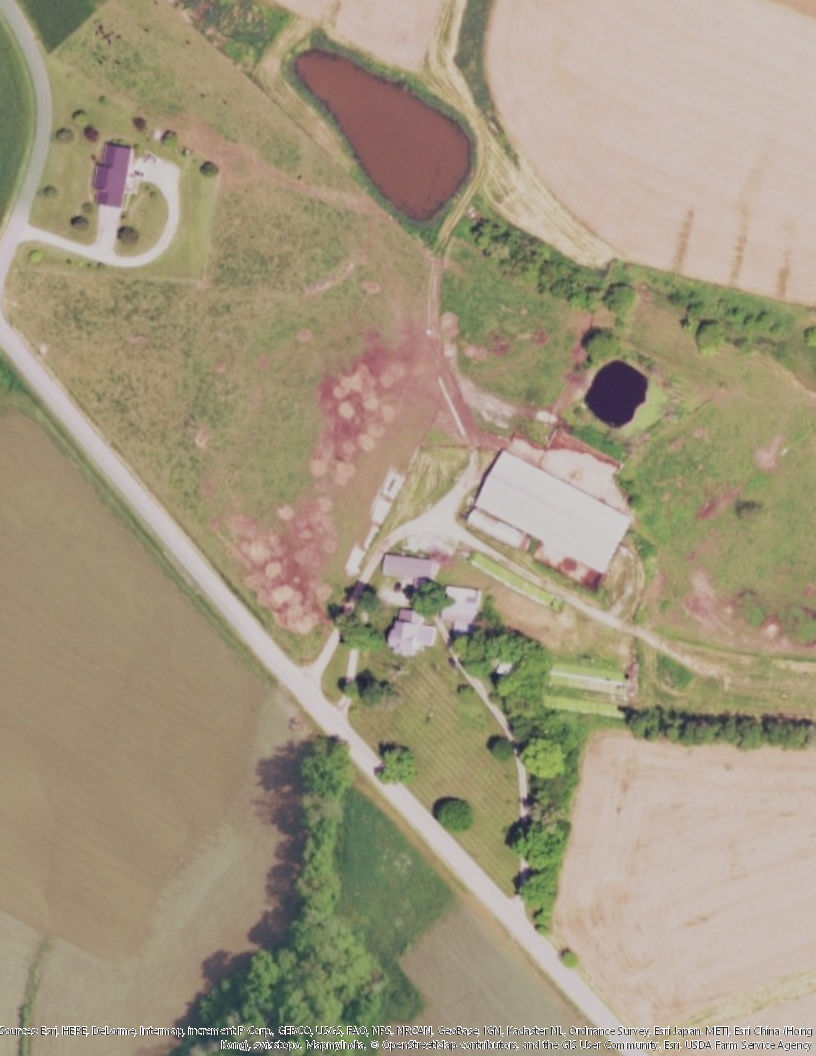cafo: (462, 440, 648, 585)
